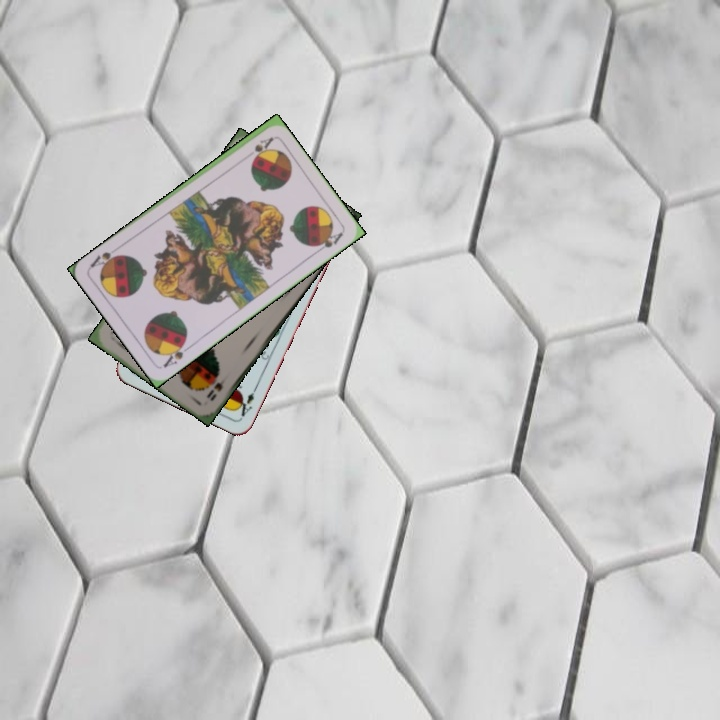EA: (232, 382, 260, 421)
SA: (159, 336, 194, 370), (250, 133, 276, 155)
SO: (202, 370, 231, 404)
